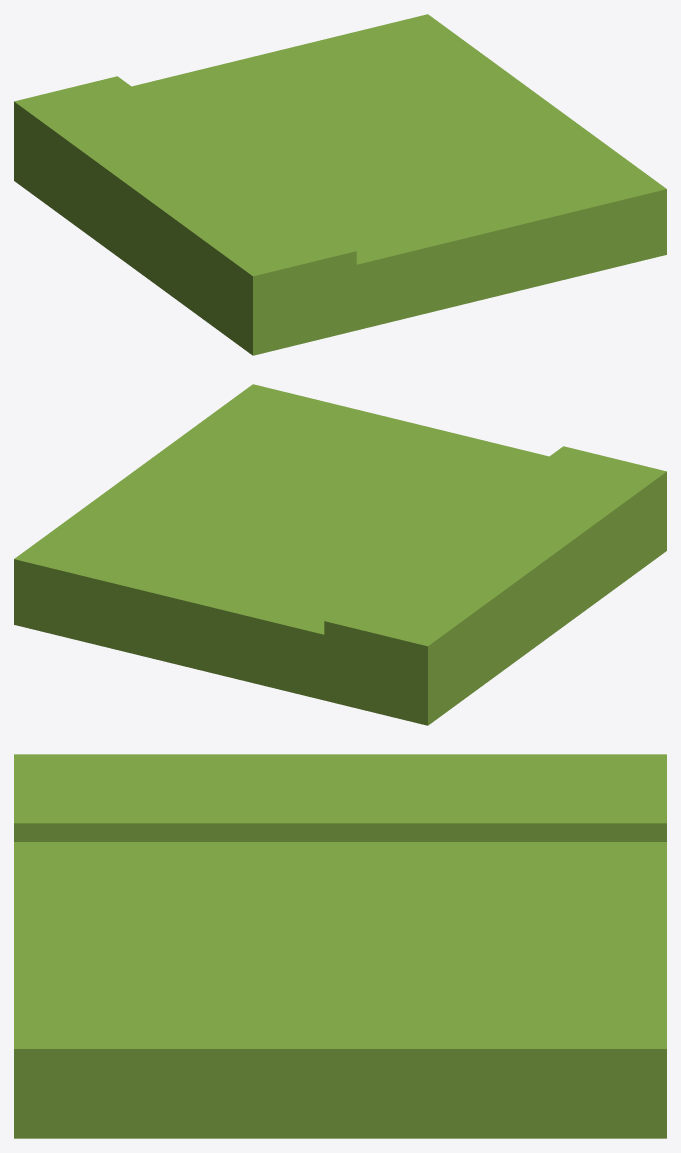
The model's file is roadtile_174.glb.
The picture shows the model from 3 angles, top to bottom: view 1: azimuth 30°, elevation 25°; view 2: azimuth 150°, elevation 25°; view 3: azimuth 270°, elevation 25°; orthographic projection. The views are drawn at different scales.
Visible parts, largest first — view 1: Mesh1 Group1 Model; view 2: Mesh1 Group1 Model; view 3: Mesh1 Group1 Model.
Boxes of the visible parts, x1,y1,x2,y2 form: Mesh1 Group1 Model: [14, 14, 666, 355]; Mesh1 Group1 Model: [14, 384, 666, 725]; Mesh1 Group1 Model: [14, 754, 666, 1138].
Bounding box in the file's own units: 3 × 0.55 × 3.
